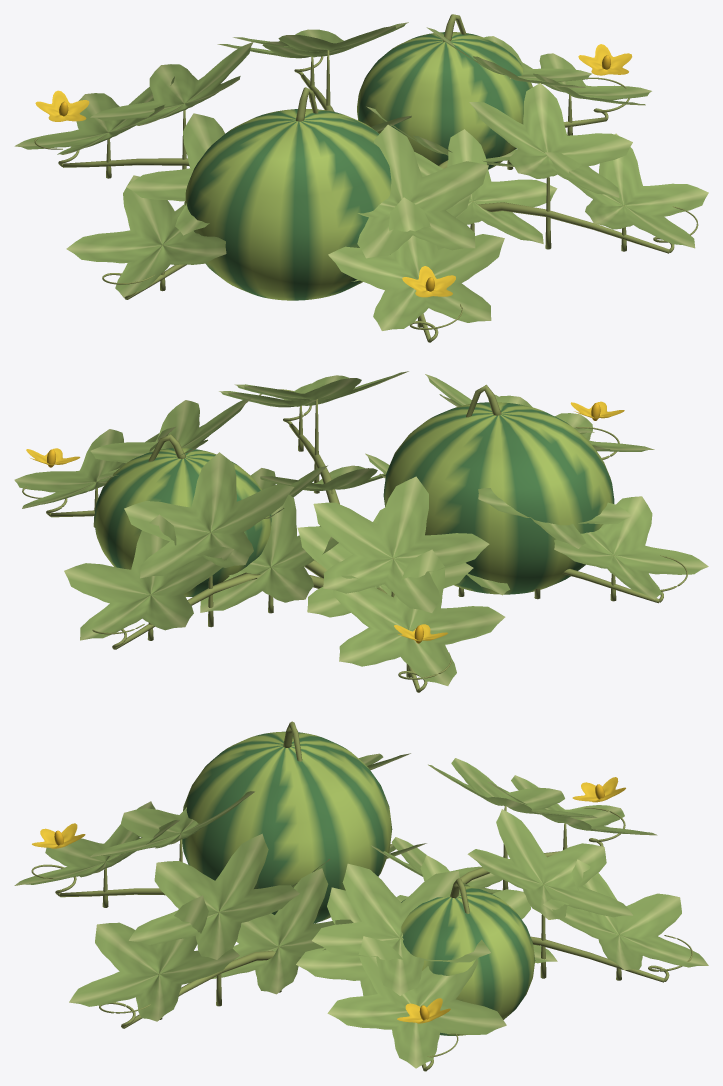
The model's file is watermelon_mature.glb.
3 renders of one model, top to bottom at view 1: azimuth 30°, elevation 25°; view 2: azimuth 150°, elevation 25°; view 3: azimuth 270°, elevation 25°, orthographic.
Parts seen in each view (by area): view 1: leaves, fruit, stems, flowers; view 2: leaves, fruit, stems, flowers; view 3: leaves, fruit, stems, flowers.
Part boxes in pixels (x1,y1,x2,y2): leaves: (14,22,708,330); fruit: (184,32,532,300); stems: (34,14,698,342); flowers: (35,44,632,297); leaves: (14,371,708,685); fruit: (94,402,614,596); stems: (22,384,687,692); flowers: (26,401,624,643); leaves: (14,753,708,1068); fruit: (182,731,535,1035); stems: (31,721,692,1071); flowers: (32,777,625,1023).
Size of the model in its own units: 0.9291 by 0.3052 by 0.9163.
